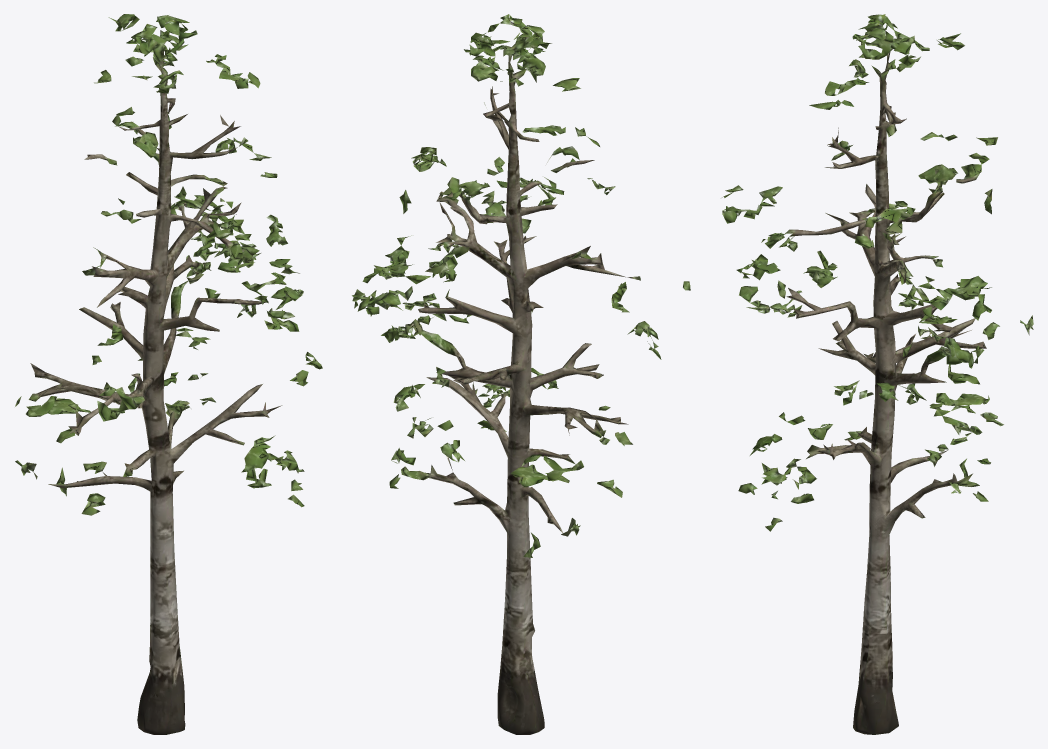
Rendered from tree-3.glb.
3 views of the same model, side by side, from view 1: azimuth 30°, elevation 25°; view 2: azimuth 150°, elevation 25°; view 3: azimuth 270°, elevation 25° (orthographic).
Visible parts, largest first — view 1: geometry_0; view 2: geometry_0; view 3: geometry_0.
Boxes of the visible parts, x1=… form: geometry_0: x1=15, y1=14, x2=322, y2=734; geometry_0: x1=352, y1=14, x2=690, y2=734; geometry_0: x1=722, y1=14, x2=1033, y2=734.
Size of the model in its own units: 0.3822 by 0.9691 by 0.3904.
Materials: 1 (1 with a texture image).
